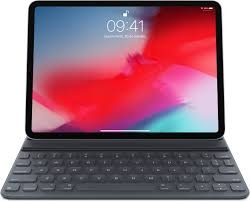keyboard: (1, 139, 248, 201)
